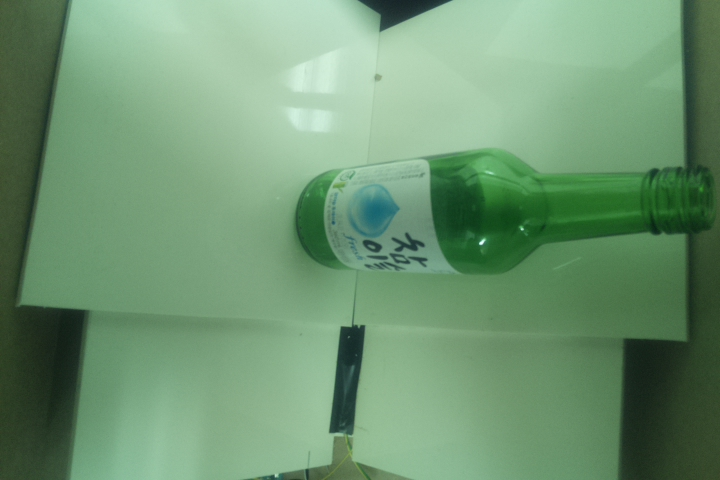soju: (290, 146, 720, 277)
